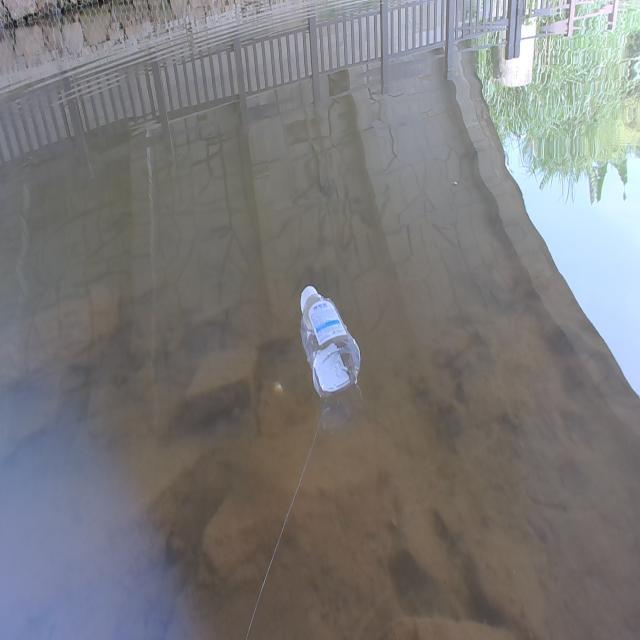bottle: (280, 240, 377, 413)
